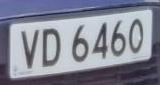0: (128, 16, 148, 59)
4: (91, 16, 111, 68)
6: (69, 19, 92, 70), (109, 17, 129, 63)
D: (40, 23, 65, 71)
V: (18, 25, 41, 72)
